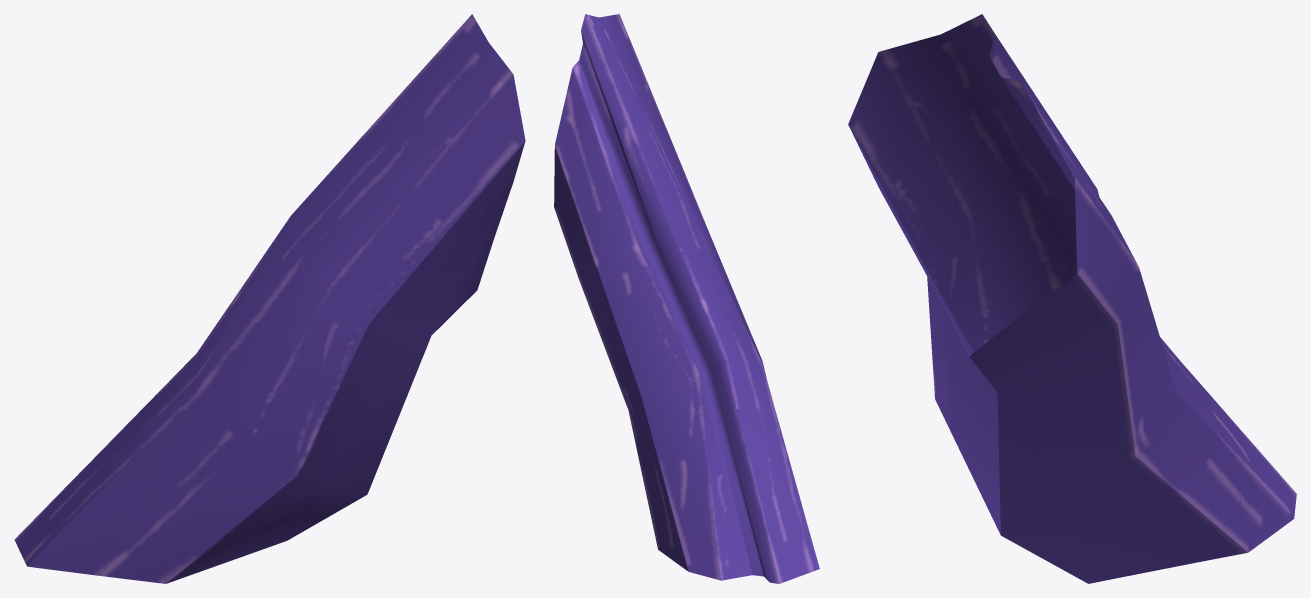
Rendered from Roca_Pilar_02.fbx.
3 renders of one model, left to right at view 1: azimuth 30°, elevation 25°; view 2: azimuth 150°, elevation 25°; view 3: azimuth 270°, elevation 25°, orthographic. The views are drawn at different scales.
Parts seen in each view (by area): view 1: polySurface7; view 2: polySurface7; view 3: polySurface7.
Part boxes in pixels (x1,y1,x2,y2): polySurface7: (14,14,525,583); polySurface7: (554,14,819,583); polySurface7: (848,14,1296,583).
Bounding box in the file's own units: 2.41 × 3.3 × 2.04.
